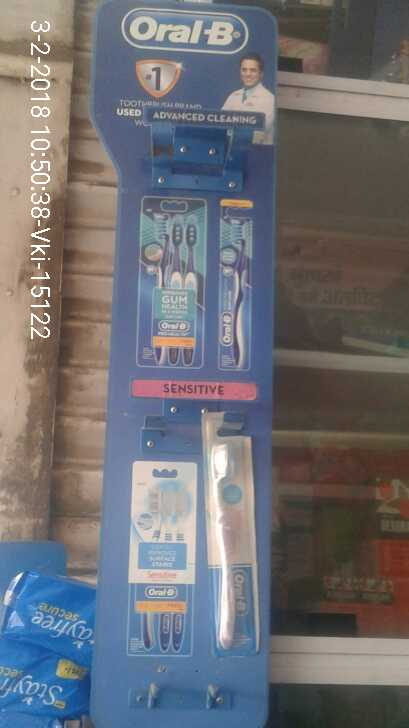oralb: (201, 405, 260, 655)
